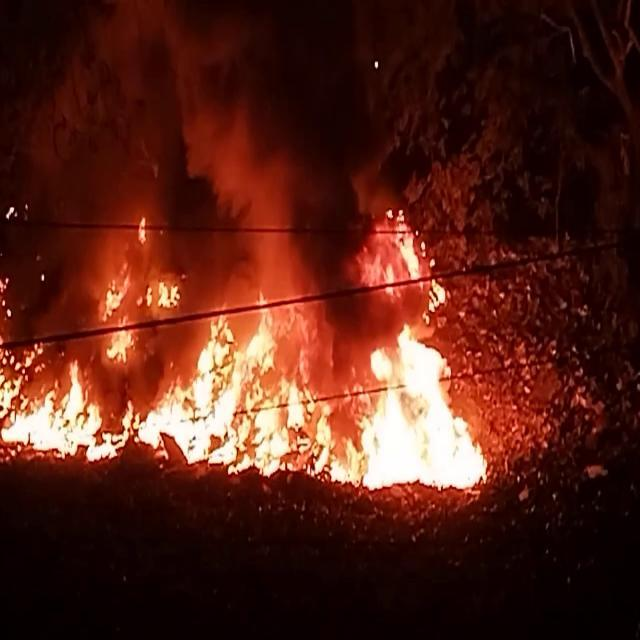Fire: (0, 275, 492, 477)
Smoke: (65, 0, 376, 288)
